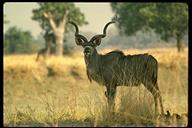antelope: (65, 16, 166, 114)
grass: (6, 97, 60, 125)
tree: (31, 2, 87, 62), (152, 5, 187, 53)
